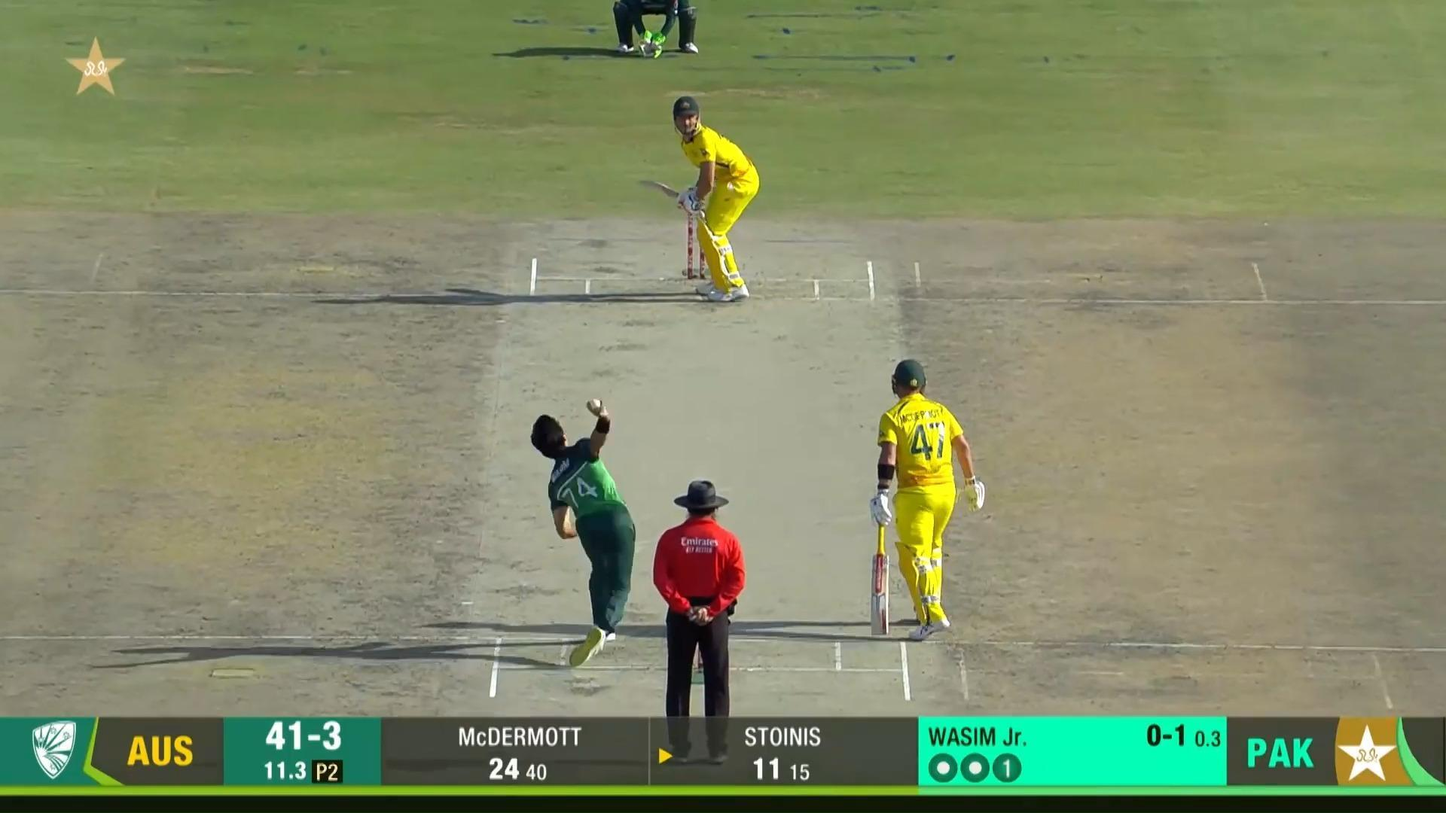BM 1: (638, 96, 761, 303)
BO: (530, 394, 639, 668)
